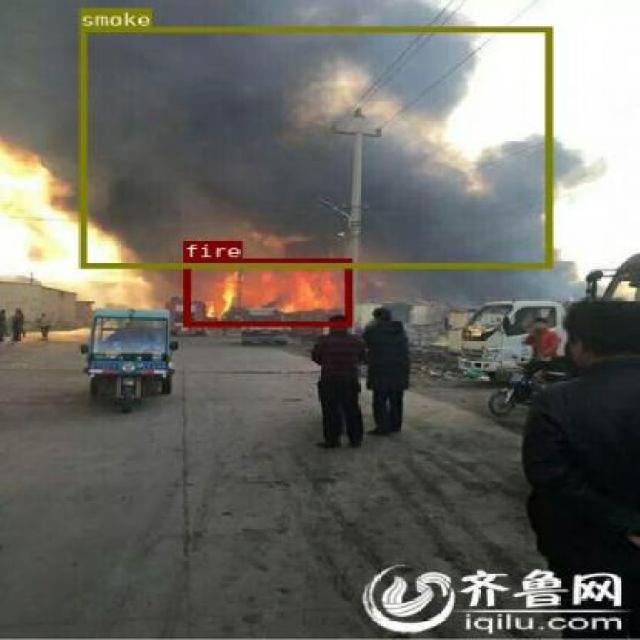fire: (182, 258, 350, 326)
smoke: (78, 26, 552, 268)
